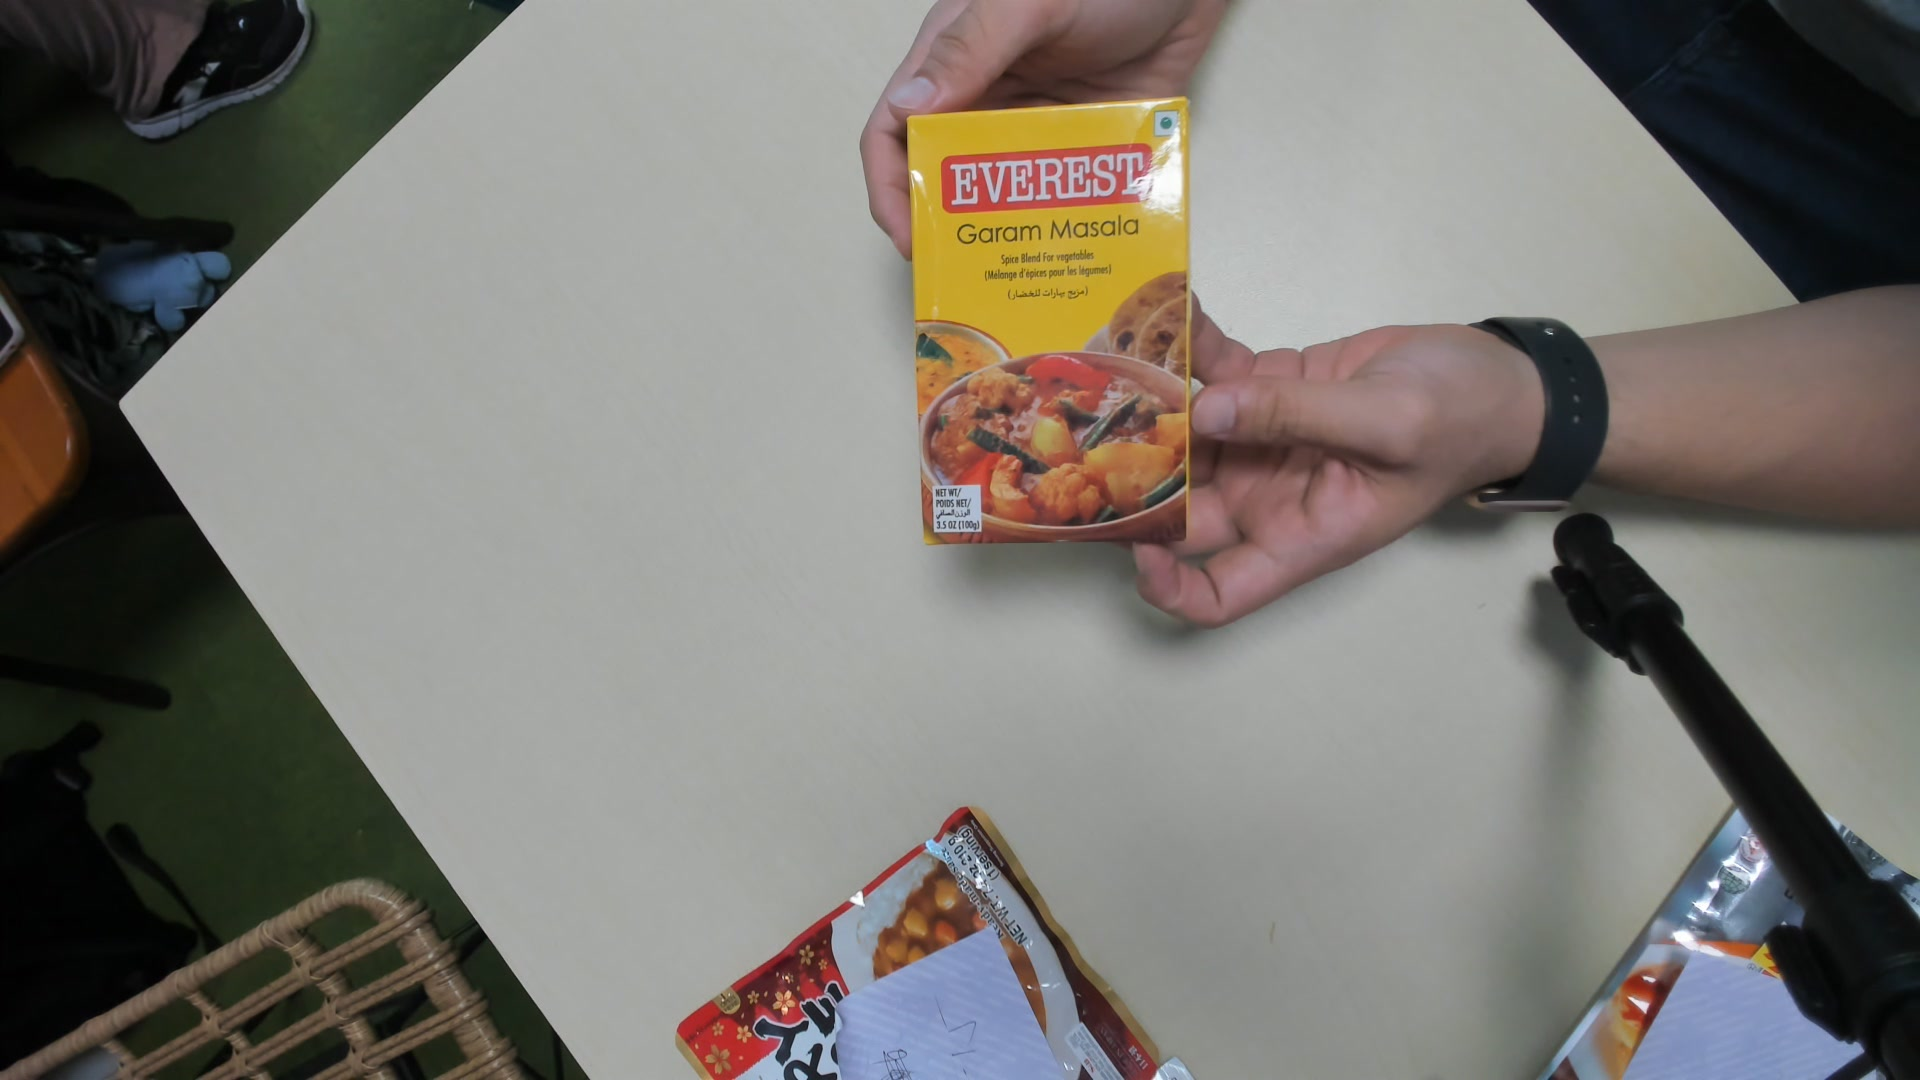CurryPastePowderSauce_100-199g_NonHalal_NonHealthy: (902, 100, 1193, 551)
